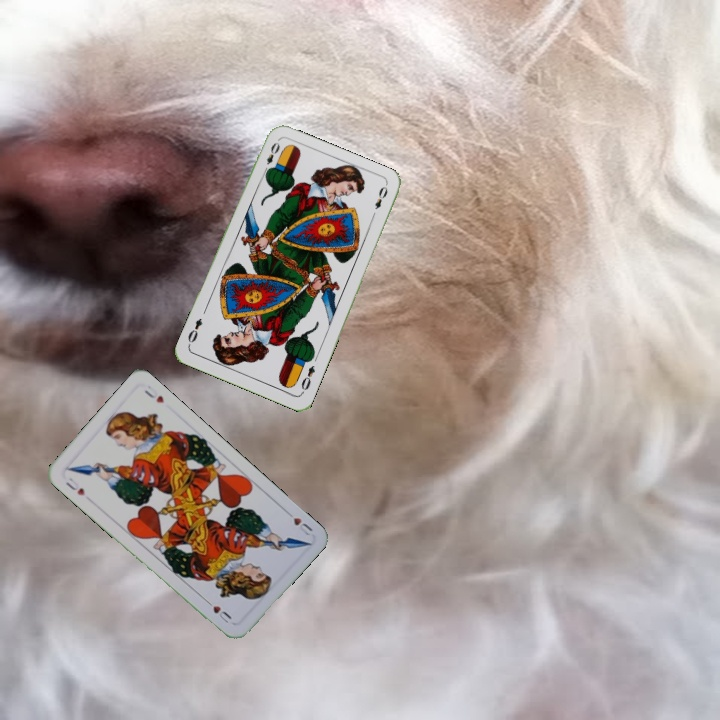EO: (259, 138, 282, 176), (297, 361, 318, 396)
HU: (282, 506, 315, 538), (61, 473, 88, 498)
